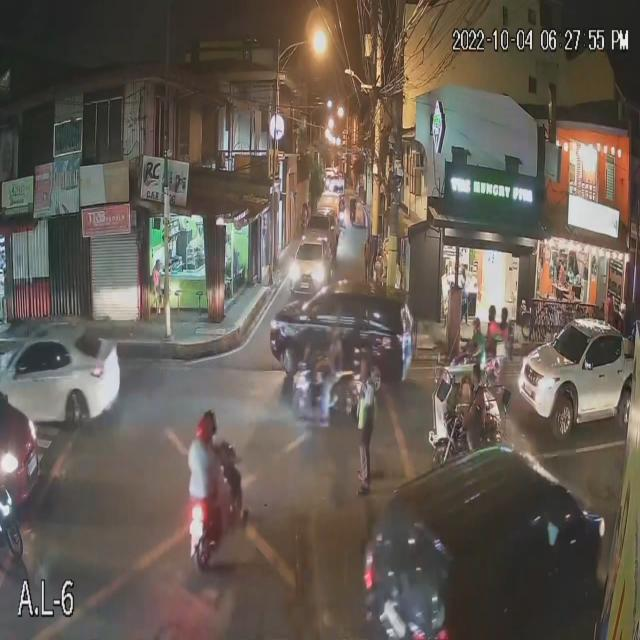Full-Faced: (470, 316, 483, 339), (487, 302, 498, 326), (497, 304, 508, 327)
